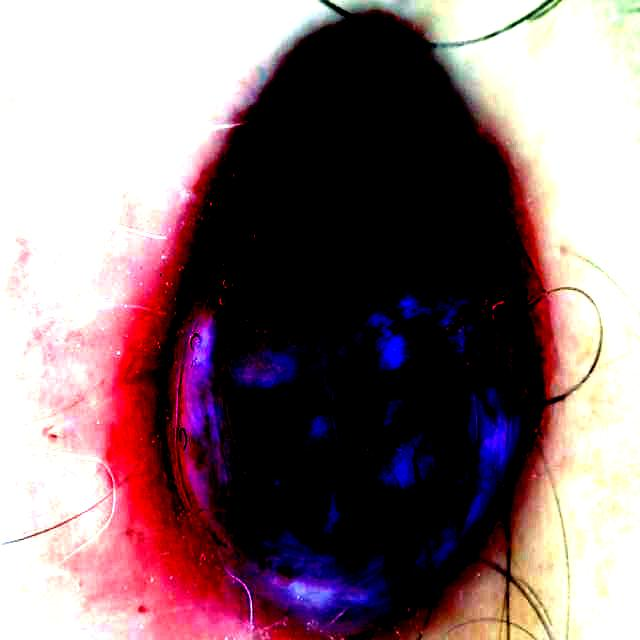VASC: (167, 38, 538, 634)
